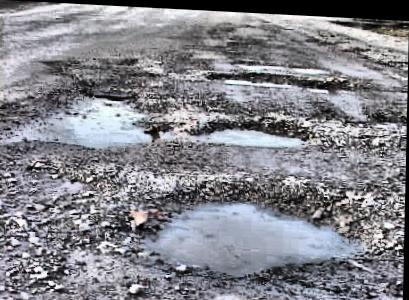pothole: (111, 167, 384, 282), (43, 88, 168, 151), (186, 113, 310, 146), (205, 67, 351, 91), (232, 56, 334, 70)
